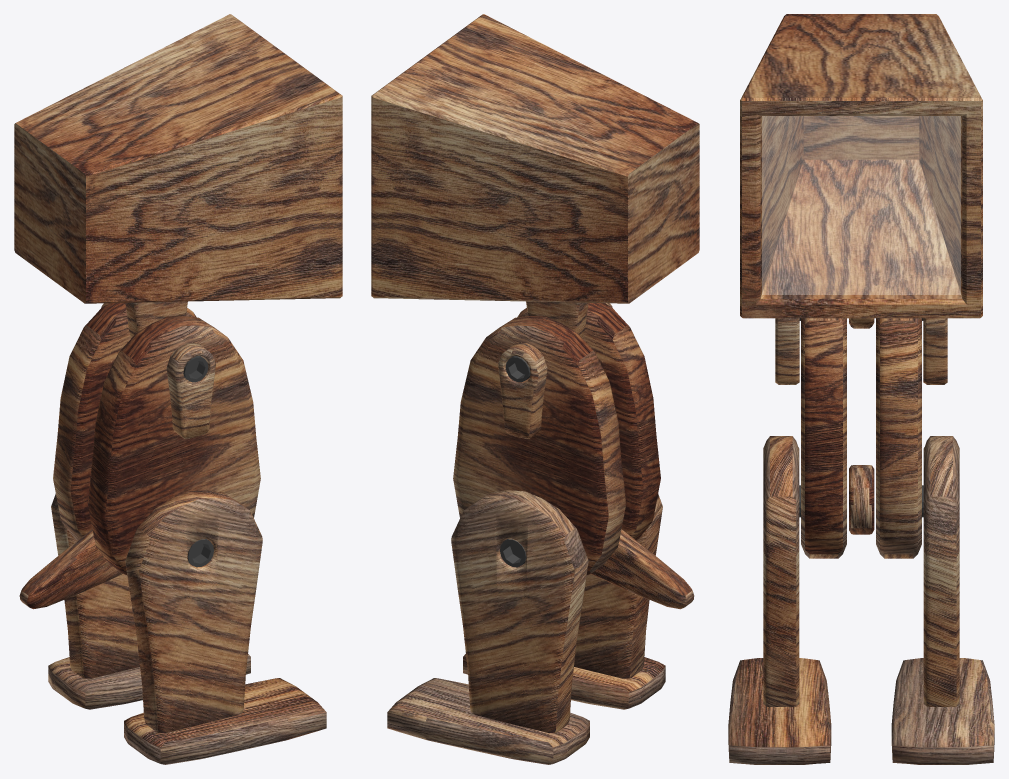
Rendered from lampko.glb.
3 views of the same model, side by side, from view 1: azimuth 30°, elevation 25°; view 2: azimuth 150°, elevation 25°; view 3: azimuth 270°, elevation 25° (orthographic). The views are drawn at different scales.
Visible parts, largest first — view 1: Glava, Telo, Noge, Stopala, Rep, Ruka D, Vrat, ZN; view 2: Glava, Telo, Noge, Stopala, Rep, Ruka L, Vrat, ZN; view 3: Glava, Staklo, Telo, Noge, Stopala, Rep, Ruka D, Ruka L.
Boxes of the visible parts, x1,y1,x2,y2 form: Glava: (14, 14, 342, 303); Telo: (53, 303, 260, 575); Noge: (51, 490, 262, 732); Stopala: (48, 654, 326, 764); Rep: (19, 529, 122, 609); Ruka D: (166, 342, 215, 438); Vrat: (125, 301, 187, 338); ZN: (187, 539, 213, 567); Glava: (371, 14, 699, 303); Telo: (453, 303, 660, 575); Noge: (451, 490, 662, 732); Stopala: (387, 654, 665, 764); Rep: (590, 529, 694, 609); Ruka L: (498, 342, 547, 438); Vrat: (526, 301, 588, 338); ZN: (500, 539, 526, 567); Glava: (740, 14, 982, 318); Staklo: (762, 116, 960, 294); Telo: (801, 318, 921, 558); Noge: (763, 436, 959, 706); Stopala: (728, 658, 994, 764); Rep: (849, 465, 874, 534); Ruka D: (775, 318, 799, 384); Ruka L: (923, 318, 947, 384).
Size of the model in its own units: 3.13 by 7.12 by 2.53.
Materials: 4 (2 with a texture image).
